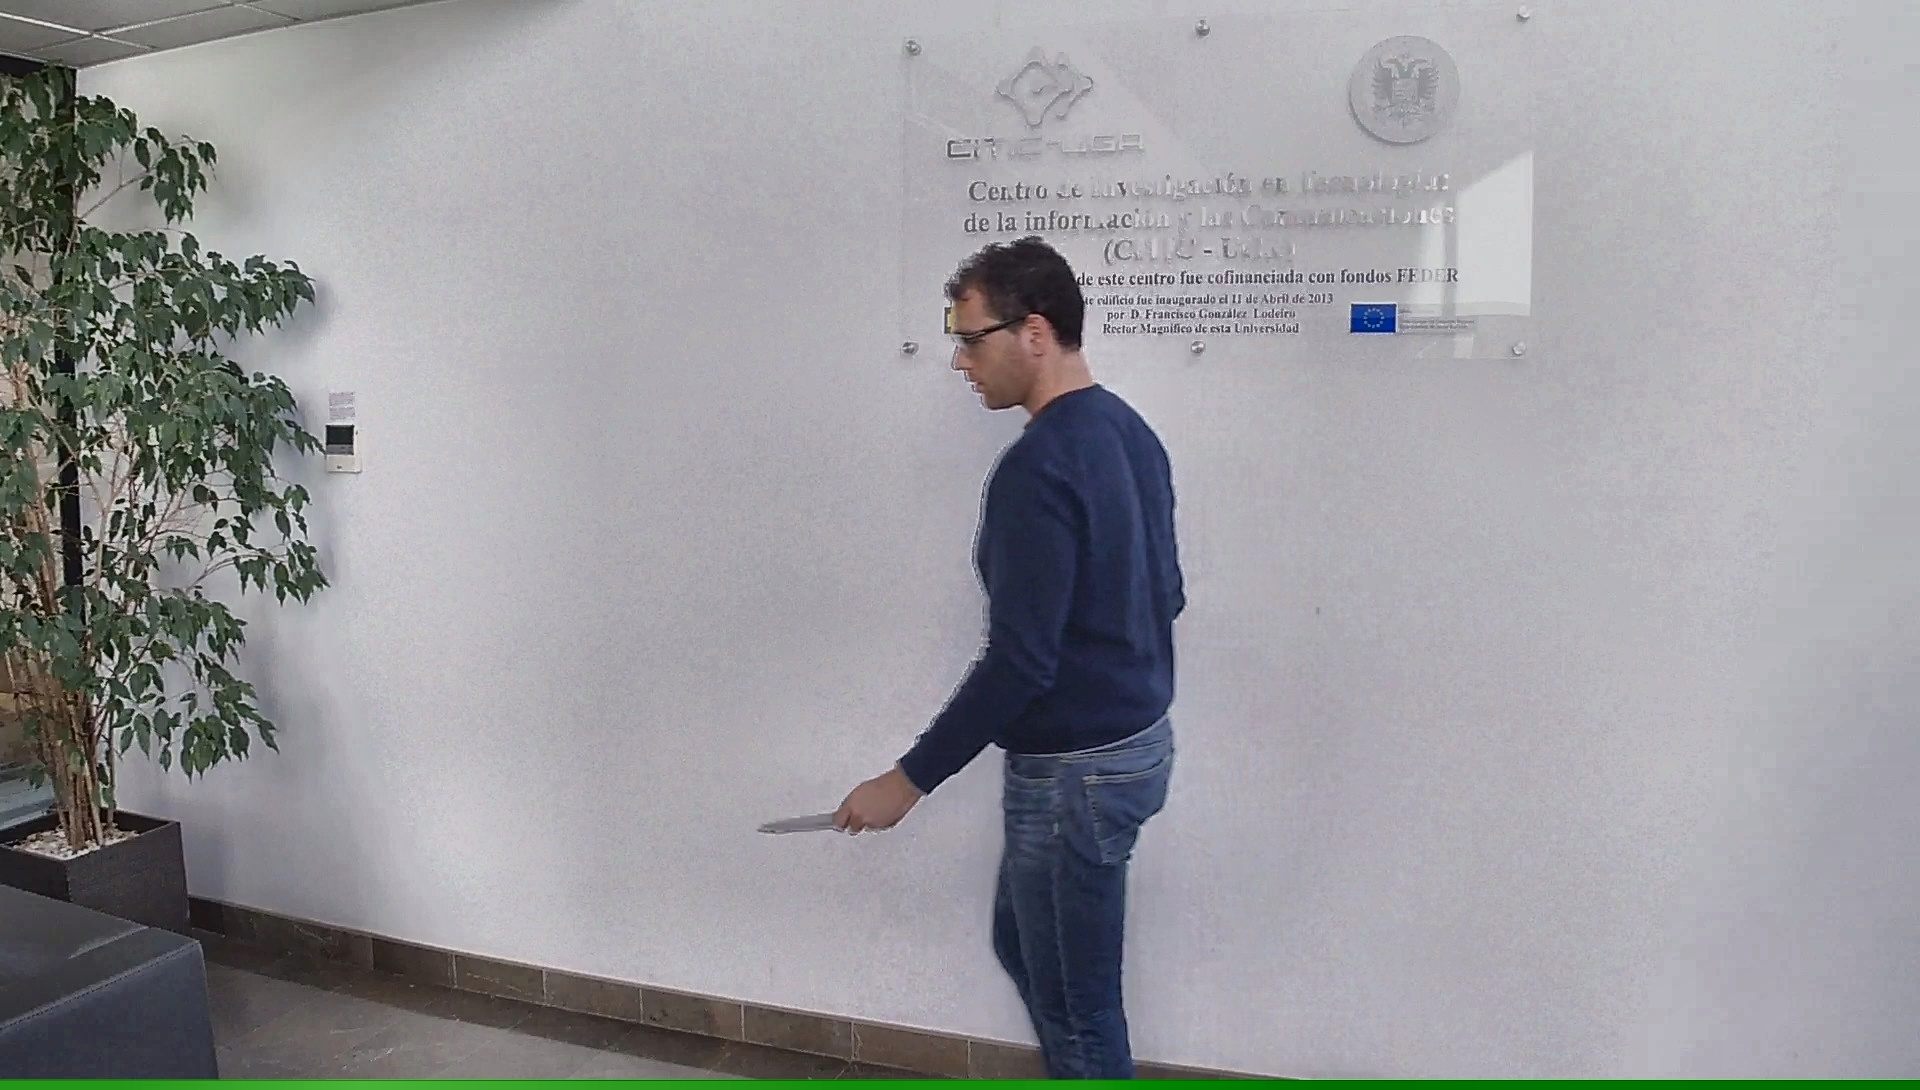knife: (746, 793, 899, 844)
